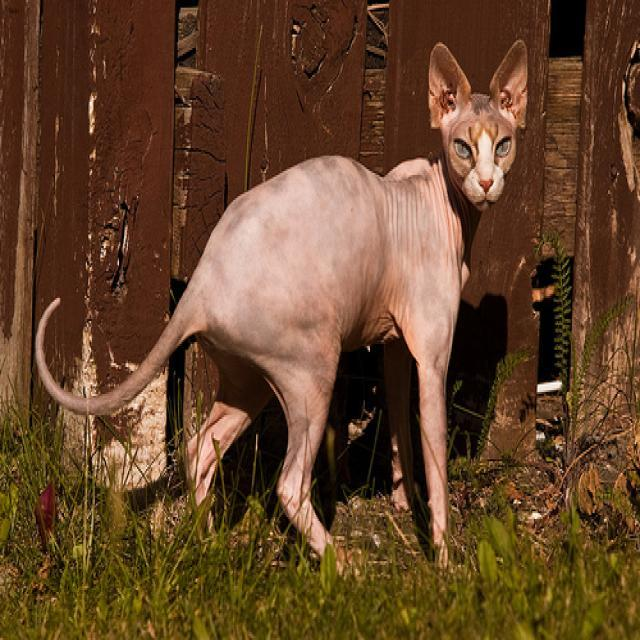Sphynx: (426, 37, 526, 208)
